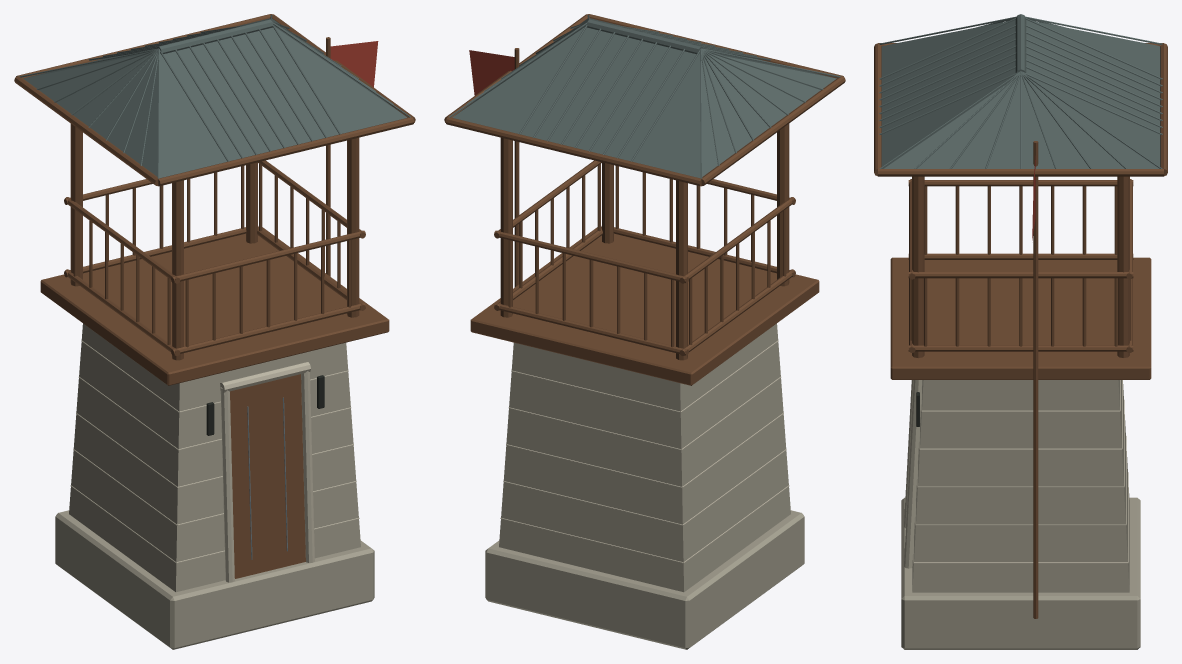
Rendered from tower.glb.
3 views of the same model, side by side, from view 1: azimuth 30°, elevation 25°; view 2: azimuth 150°, elevation 25°; view 3: azimuth 270°, elevation 25° (orthographic).
Visible parts, largest first — view 1: geometry_tower; view 2: geometry_tower; view 3: geometry_tower.
Boxes of the visible parts, <box> form: geometry_tower: <box>14,14,415,649</box>; geometry_tower: <box>444,14,845,649</box>; geometry_tower: <box>874,14,1167,649</box>.
Size of the model in its own units: 4.73 by 8.29 by 3.95.
